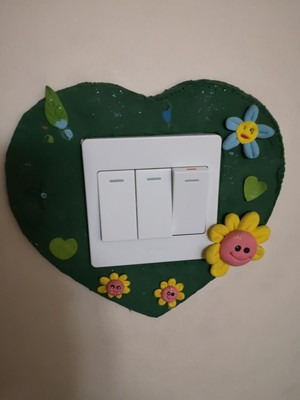switch: (95, 164, 142, 246), (129, 167, 178, 239), (170, 166, 212, 239)
